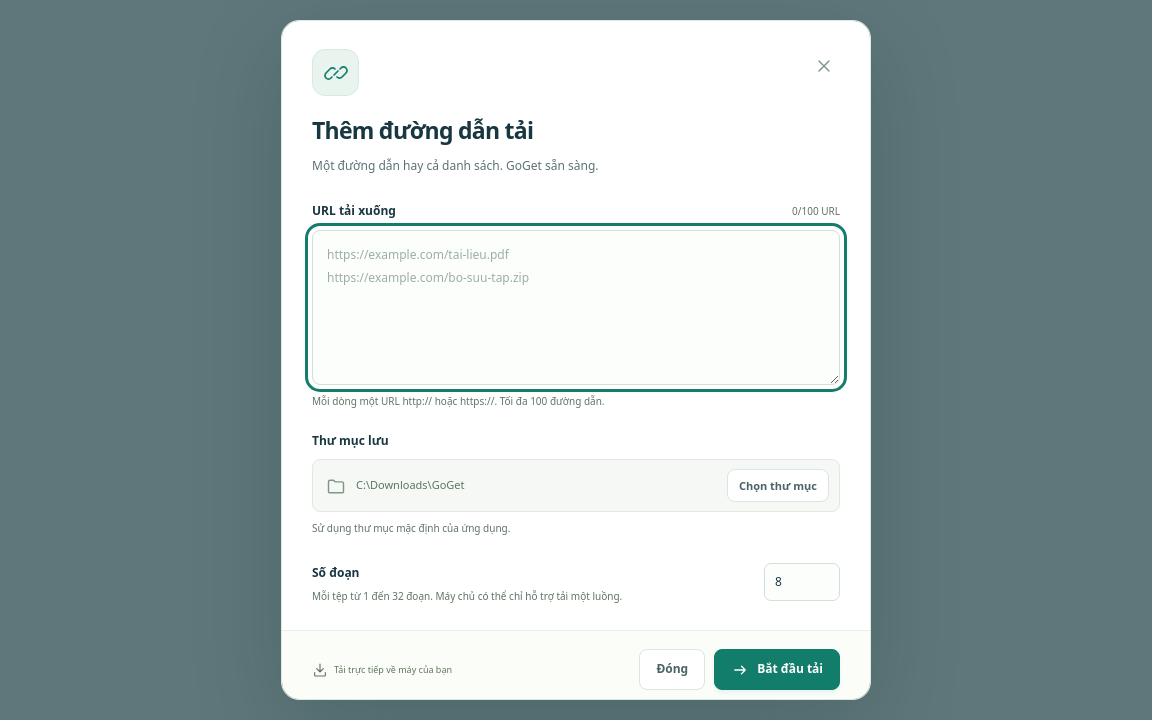
Scenario: Add URLs dialog › only sends a directory returned by the native picker and preserves it if picking is canceled
This screenshot has width=1152, height=720.
Later steps or results of the test are not shown.
What coordinates should you click on to do the following:
click the button "Chọn thư mục"
I would click on:
 (778, 486)
Its box is left=727, top=469, right=829, bottom=502.
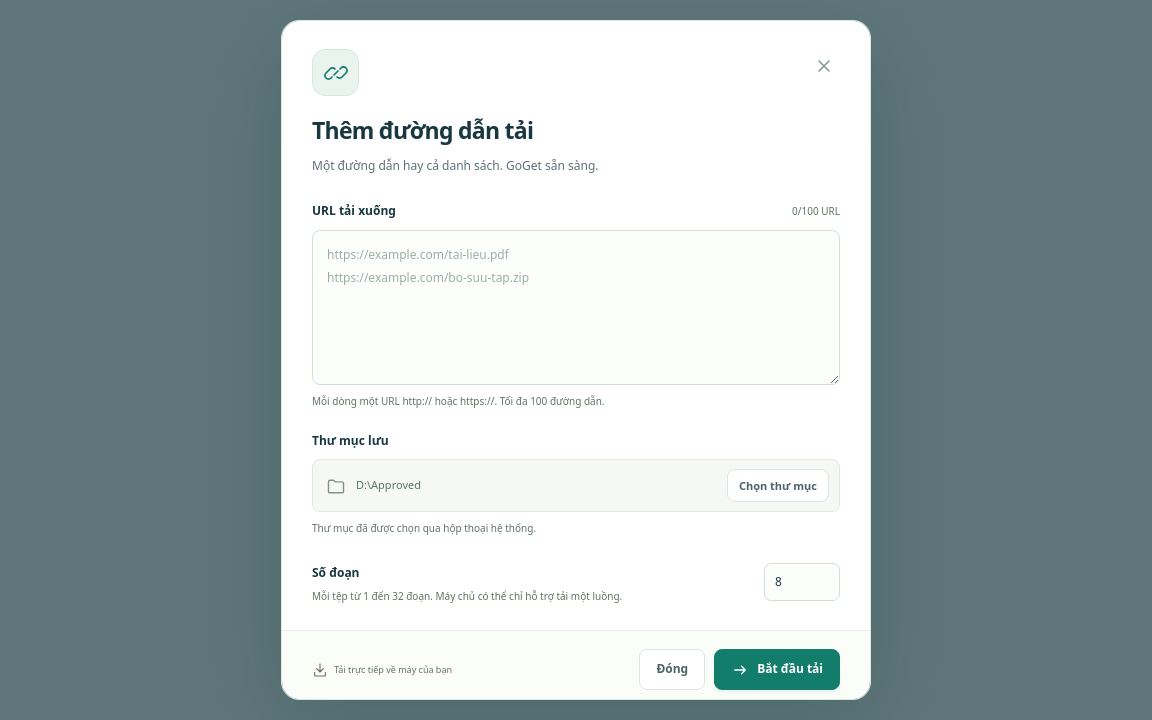
Expected: the text named "Thư mục lưu" reads "D:\\Approved", left=356, top=477, right=421, bottom=492
